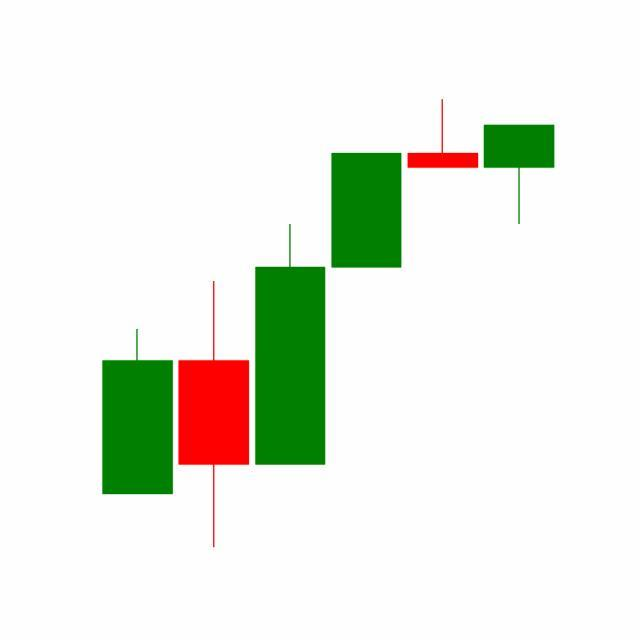Gravestone Doji: (404, 99, 482, 169)
